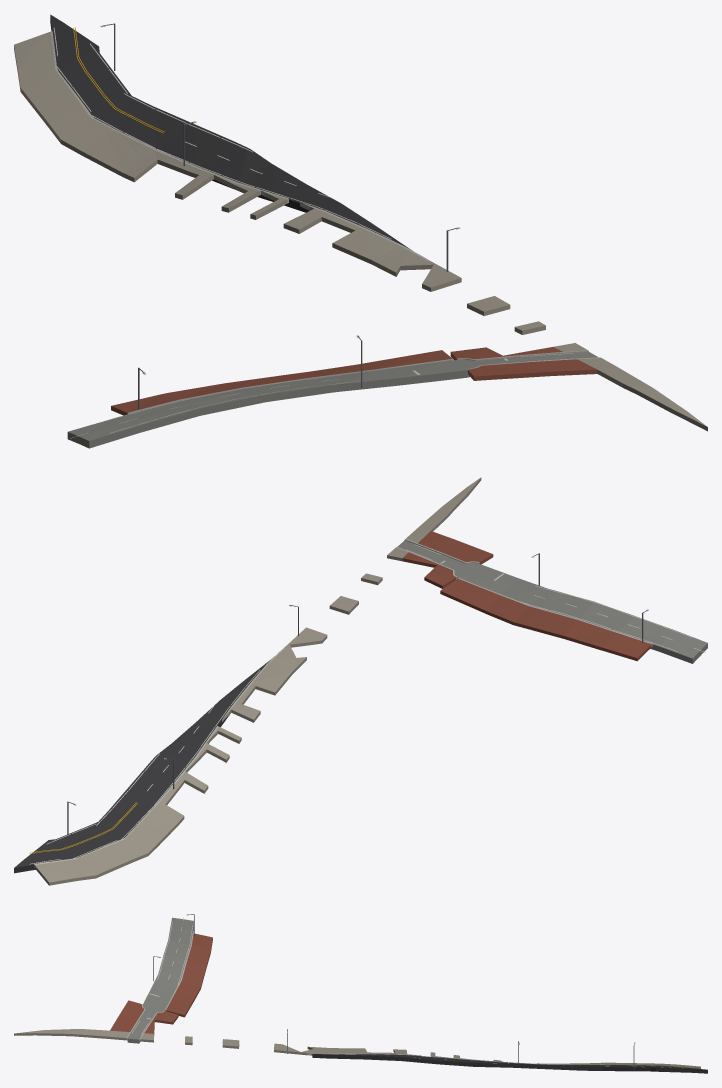
The picture shows the model from 3 angles, top to bottom: view 1: azimuth 30°, elevation 25°; view 2: azimuth 150°, elevation 25°; view 3: azimuth 270°, elevation 25°; orthographic projection. The views are drawn at different scales.
Bounding box in the file's own units: 81.41 × 23.1 × 190.
